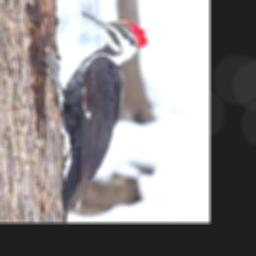Woodpecker: (43, 10, 149, 223)
